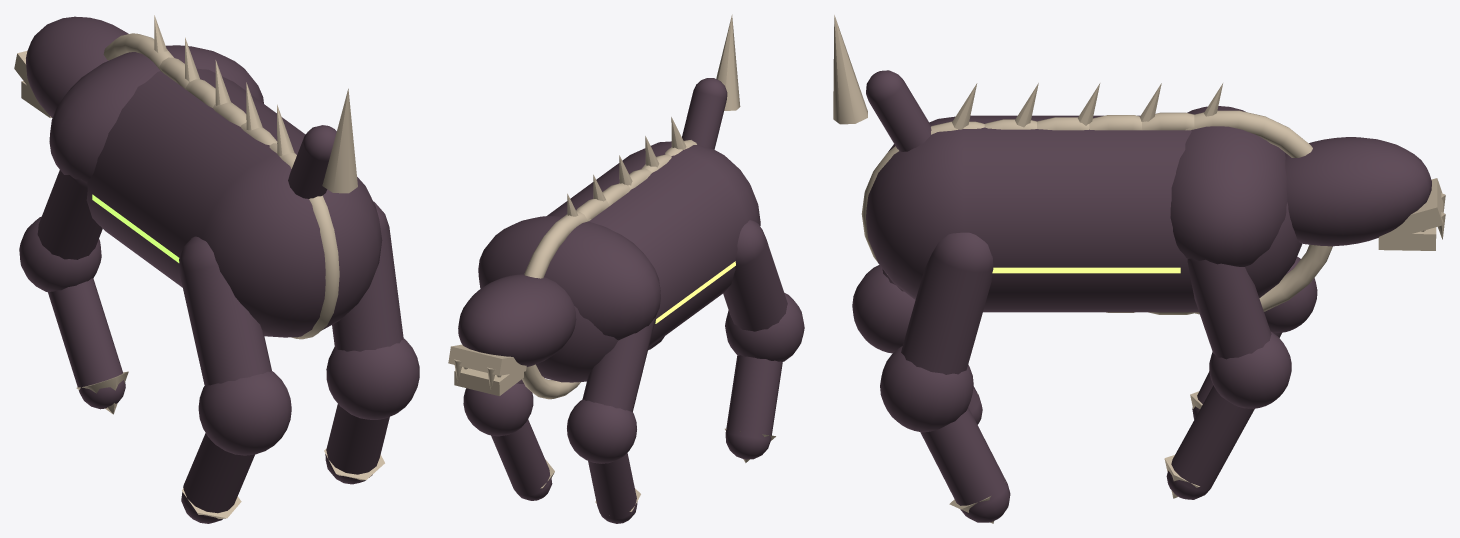
Rendered from grafted-brood-chaser.glb.
The picture shows the model from 3 angles, left to right: view 1: azimuth 30°, elevation 25°; view 2: azimuth 150°, elevation 25°; view 3: azimuth 270°, elevation 25°; orthographic projection. The views are drawn at different scales.
Parts seen in each view (by area): view 1: torso_shell, shoulder_mass, hindleg_l_upper, hindleg_l_knee, hindleg_r_knee, foreleg_l_lower, skull_plate, hindleg_r_upper, foreleg_l_upper, hindleg_l_lower, hindleg_r_lower, foreleg_l_knee (+9 smaller); view 2: torso_shell, shoulder_mass, skull_plate, hindleg_l_upper, hindleg_l_lower, foreleg_l_knee, foreleg_l_upper, foreleg_r_lower, hindleg_l_knee, foreleg_r_knee, dorsal_rib_1, foreleg_l_lower (+6 smaller); view 3: torso_shell, shoulder_mass, skull_plate, hindleg_r_upper, foreleg_r_upper, hindleg_r_lower, hindleg_r_knee, foreleg_r_lower, dorsal_rib_1, foreleg_r_knee, hindleg_l_knee, tail_base (+8 smaller).
Part boxes in pixels (x1,y1,x2,y2): torso_shell: (86, 68, 382, 337); shoulder_mass: (49, 45, 263, 182); hindleg_l_upper: (179, 236, 271, 385); hindleg_l_knee: (198, 370, 291, 455); hindleg_r_knee: (326, 338, 419, 419); foreleg_l_lower: (48, 278, 125, 409); skull_plate: (26, 16, 128, 117); hindleg_r_upper: (332, 201, 403, 351); foreleg_l_upper: (37, 170, 102, 259); hindleg_l_lower: (181, 433, 254, 523); hindleg_r_lower: (325, 404, 389, 484); foreleg_l_knee: (19, 216, 101, 292); torso_shell: (536, 141, 760, 382); shoulder_mass: (478, 216, 660, 340); skull_plate: (458, 274, 576, 366); hindleg_l_upper: (723, 220, 787, 331); hindleg_l_lower: (725, 355, 782, 459); foreleg_l_knee: (567, 399, 636, 463); foreleg_l_upper: (582, 317, 655, 411); foreleg_r_lower: (491, 419, 552, 500); hindleg_l_knee: (725, 293, 804, 362); foreleg_r_knee: (463, 383, 533, 436); dorsal_rib_1: (522, 211, 591, 399); foreleg_l_lower: (588, 453, 637, 523); torso_shell: (866, 115, 1302, 312); shoulder_mass: (1170, 106, 1287, 266); skull_plate: (1285, 137, 1431, 246); hindleg_r_upper: (901, 232, 993, 374); foreleg_r_upper: (1187, 258, 1271, 359); hindleg_r_lower: (920, 407, 1010, 522); hindleg_r_knee: (880, 346, 973, 432); foreleg_r_lower: (1166, 385, 1254, 499); dorsal_rib_1: (1185, 110, 1332, 314); foreleg_r_knee: (1209, 332, 1291, 408); hindleg_l_knee: (852, 265, 915, 353); tail_base: (866, 70, 931, 151).
Size of the model in its own units: 0.6284 by 1.27 by 1.49.
